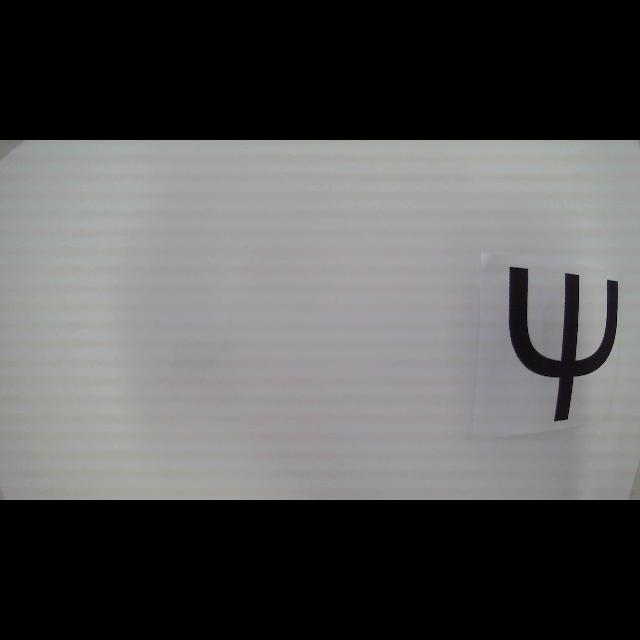PSI: (509, 266, 619, 422)
